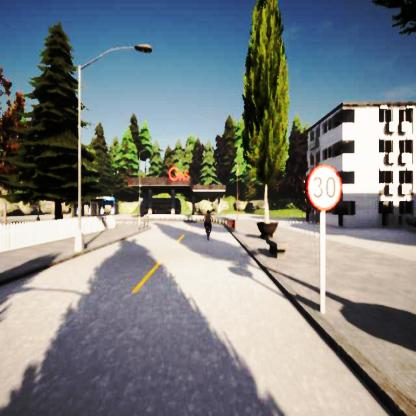motobike: (204, 210, 214, 238)
